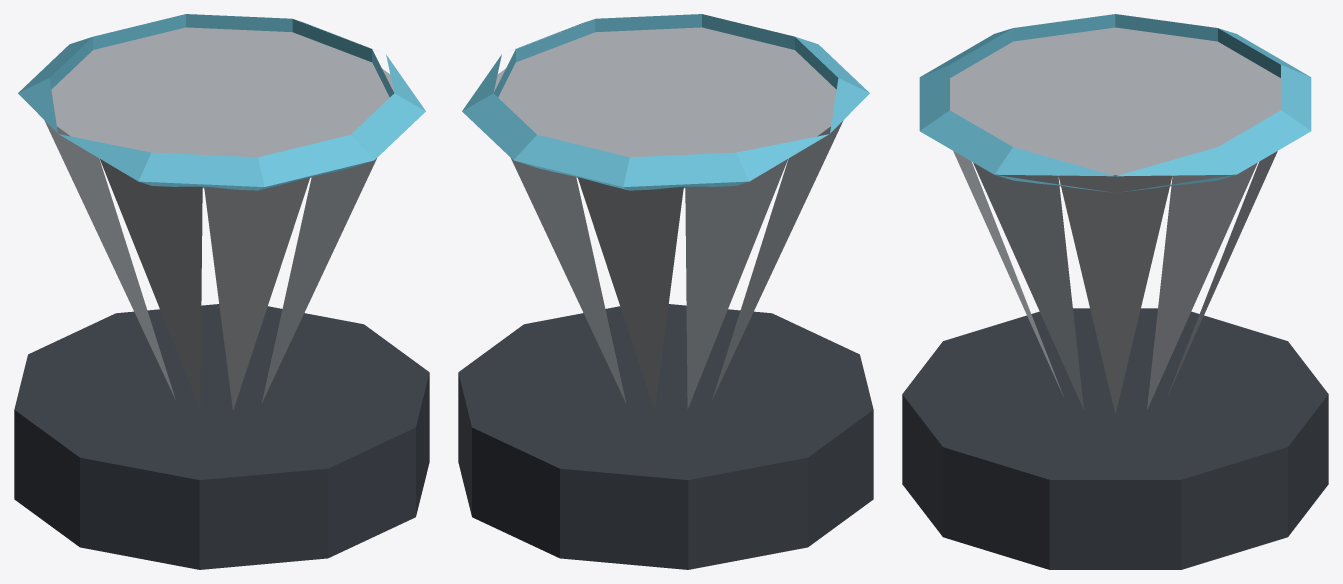
The model's file is mod-emitter.lod.glb.
The picture shows the model from 3 angles, left to right: view 1: azimuth 30°, elevation 25°; view 2: azimuth 150°, elevation 25°; view 3: azimuth 270°, elevation 25°; orthographic projection.
Visible parts, largest first — view 1: m; view 2: m; view 3: m.
Part boxes in pixels (<box>): m: <box>14,14,429,569</box>; m: <box>458,14,873,569</box>; m: <box>902,14,1328,569</box>.
Size of the model in its own units: 0.053 by 0.0572 by 0.0557.
